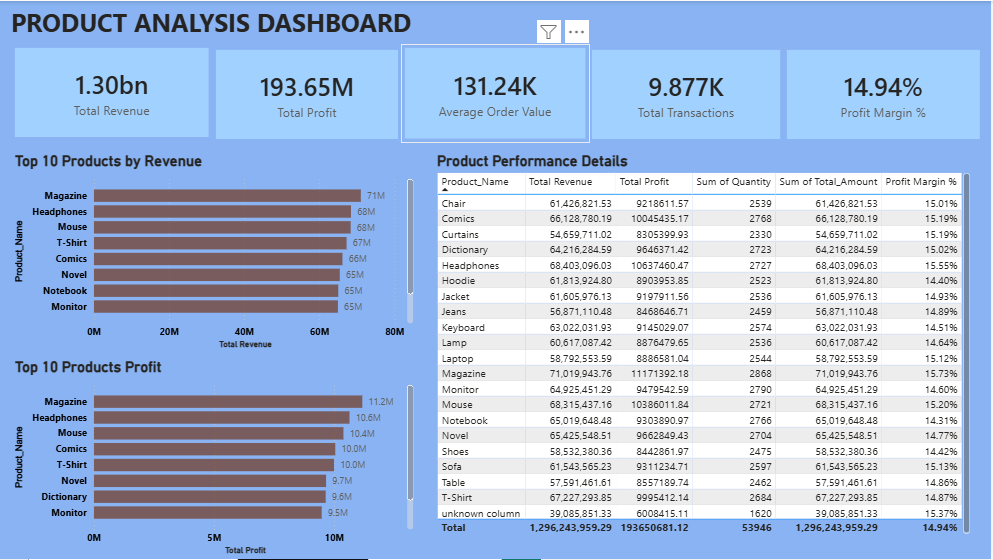

The dashboard page shown, as its layout file describes it:
{"tool":"powerbi","page":{"name":"Product Analysis","canvas":[1280,720],"ordinal":1},"visuals":[{"type":"textbox","box":[10.6,0,528.8,56.1],"z":0},{"type":"cardVisual","fields":{"Data":["final_cleaned_dataset.Average Order Value"]},"box":[518.2,56.1,243.9,127.3],"z":1000},{"type":"cardVisual","fields":{"Data":["final_cleaned_dataset.Profit Margin %"]},"box":[1012.1,57.6,259.1,125.8],"z":2000},{"type":"cardVisual","fields":{"Data":["final_cleaned_dataset.Total Profit"]},"box":[274.2,57.6,245.5,125.8],"z":3000},{"type":"cardVisual","fields":{"Data":["final_cleaned_dataset.Total Revenue"]},"box":[15.2,56.1,260.6,125.8],"z":4000},{"type":"cardVisual","fields":{"Data":["final_cleaned_dataset.Total Transactions"]},"box":[760.6,57.6,253,125.8],"z":5000},{"type":"clusteredBarChart","title":"Top 10 Products by Revenue","fields":{"Category":["final_cleaned_dataset.Product_Name"],"Y":["final_cleaned_dataset.Total Revenue"]},"box":[15.2,195.5,524.2,259.1],"z":6000},{"type":"clusteredBarChart","title":"Top 10 Products Profit","fields":{"Category":["final_cleaned_dataset.Product_Name"],"Y":["final_cleaned_dataset.Total Profit"]},"box":[15.2,460.6,524.2,259.1],"z":7000},{"type":"tableEx","title":"Product Performance Details","fields":{"Values":["final_cleaned_dataset.Product_Name","final_cleaned_dataset.Total Revenue","final_cleaned_dataset.Total Profit","Sum(final_cleaned_dataset.Quantity)","Sum(final_cleaned_dataset.Total_Amount)","final_cleaned_dataset.Profit Margin %"]},"box":[560.6,195.5,698.5,498.5],"z":8000}]}

Visuals, with their boxes in screenshot pixels (x1, y1, x2, y2), scaled from the page's 1280x720 canvas onto the 993x560 screenshot:
textbox: bbox=(8, 0, 418, 44)
cardVisual - final_cleaned_dataset.Average Order Value: bbox=(402, 44, 591, 143)
cardVisual - final_cleaned_dataset.Profit Margin %: bbox=(785, 45, 986, 143)
cardVisual - final_cleaned_dataset.Total Profit: bbox=(213, 45, 403, 143)
cardVisual - final_cleaned_dataset.Total Revenue: bbox=(12, 44, 214, 141)
cardVisual - final_cleaned_dataset.Total Transactions: bbox=(590, 45, 786, 143)
"Top 10 Products by Revenue" clusteredBarChart: bbox=(12, 152, 418, 354)
"Top 10 Products Profit" clusteredBarChart: bbox=(12, 358, 418, 559)
"Product Performance Details" tableEx: bbox=(435, 152, 977, 540)
